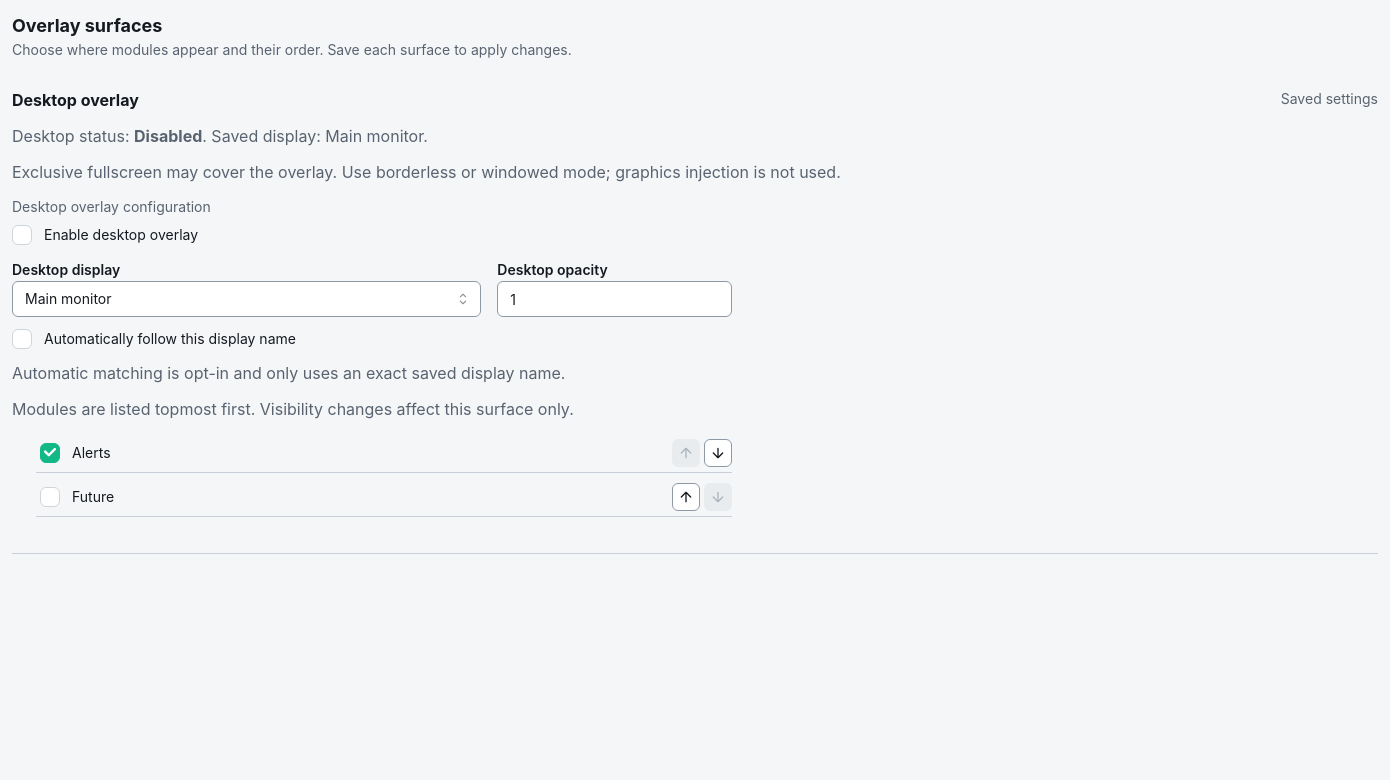
preserves a failed-save draft and reports actionable failure
Click the checkbox labelled "Enable desktop overlay".
click(22, 235)  # box [12,225,32,245]
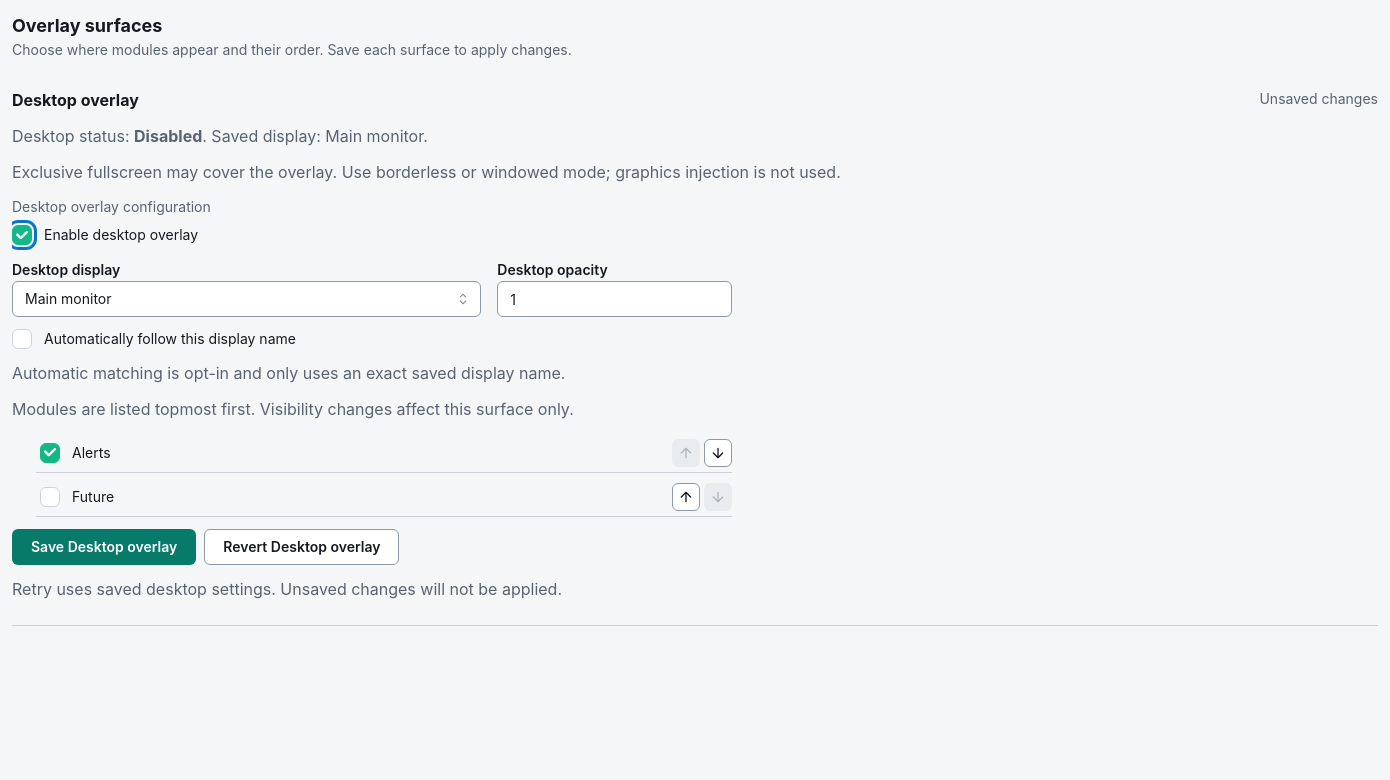
Click the button "Save Desktop overlay".
click(104, 547)  # box [12,529,196,565]
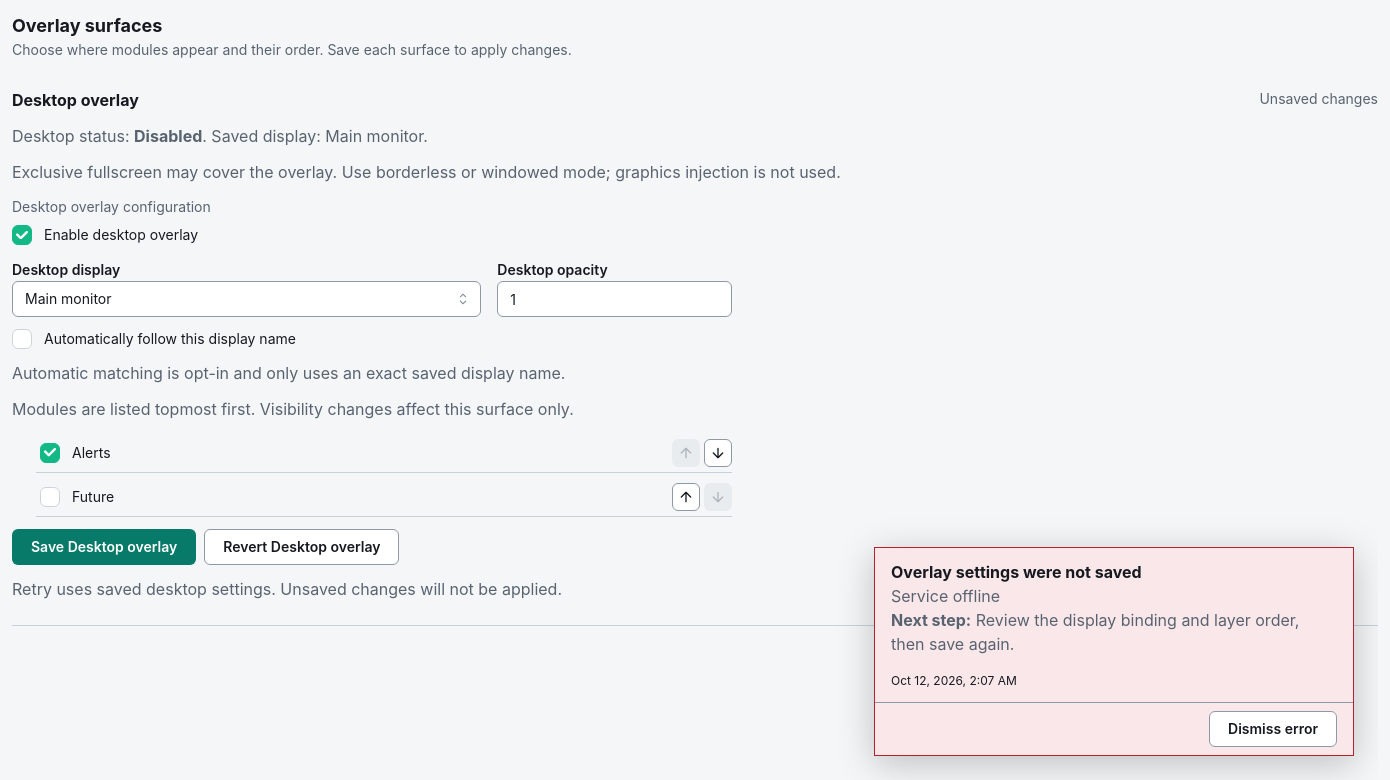
Result: the checkbox labelled "Enable desktop overlay" is checked at [12,225,32,245]
Result: the text "Overlay settings were not saved" is shown at [891,562,1142,582]
